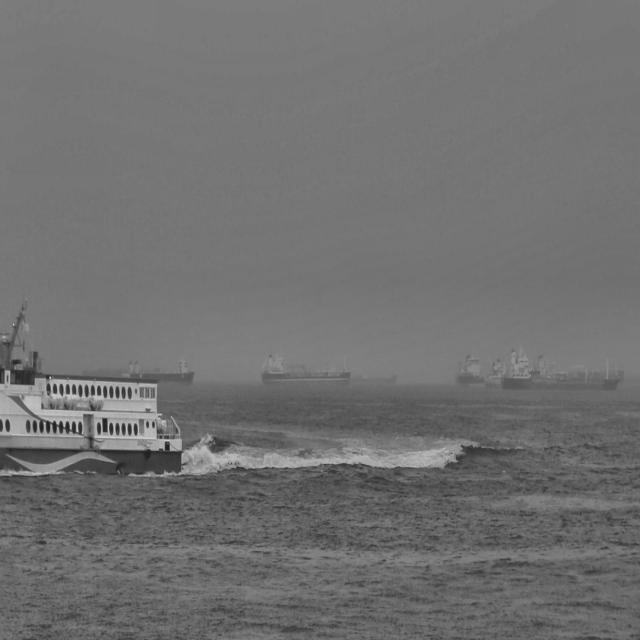ship: (0, 294, 185, 476), (500, 344, 620, 392), (260, 349, 352, 385), (121, 357, 195, 382), (455, 351, 484, 388), (483, 355, 503, 389)
